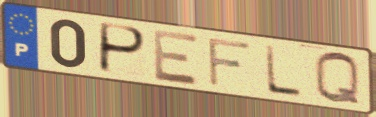0: (48, 18, 89, 70)
E: (150, 27, 201, 88)
F: (205, 35, 254, 89)
L: (263, 43, 305, 100)
P: (97, 21, 149, 77)
Q: (312, 50, 363, 108)
